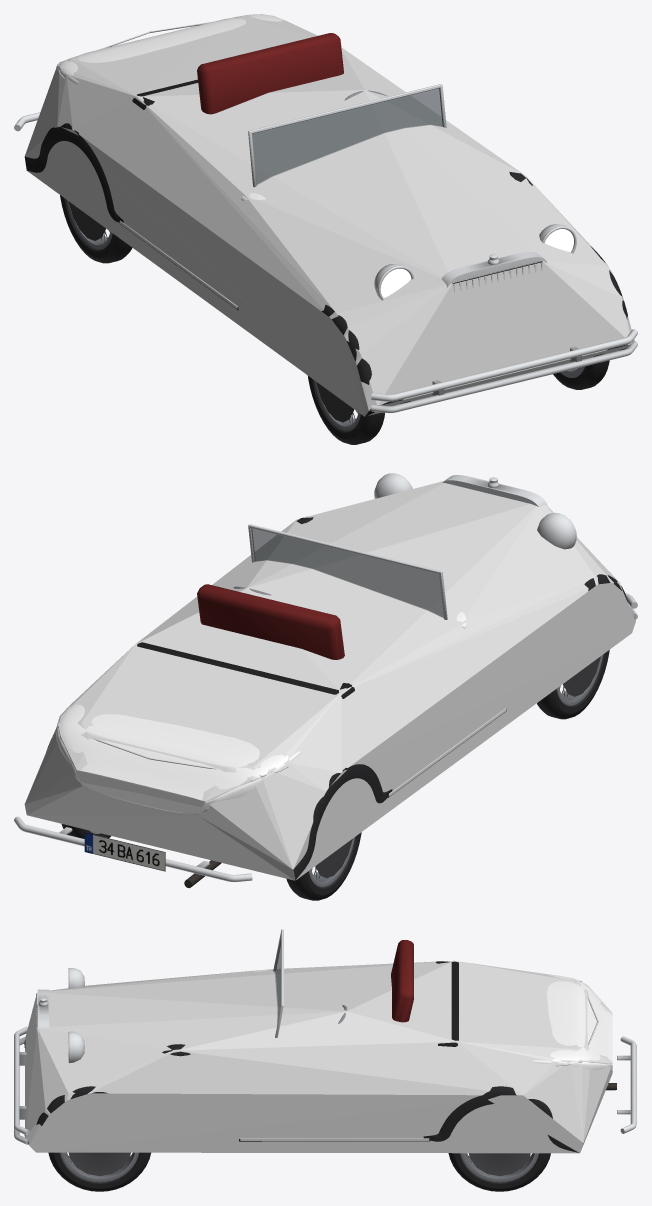
The model's file is bosfor_lale_lod0.glb.
The picture shows the model from 3 angles, top to bottom: view 1: azimuth 30°, elevation 25°; view 2: azimuth 150°, elevation 25°; view 3: azimuth 270°, elevation 25°; orthographic projection. The views are drawn at different scales.
Visible parts, largest first — view 1: col_body, exhaust, glass, interior, trim, body, wheel_FR, wheel_RR, lights_front, wheel_FL, brake_FR, brake_RR; view 2: col_body, body, exhaust, interior, glass, trim, plate_rear, wheel_RR, wheel_FR, brake_FR, brake_RR; view 3: col_body, body, exhaust, trim, wheel_FL, wheel_RL, interior, brake_FL, brake_RL.
Boxes of the visible parts, box(x1,y1,x2,y2) form: col_body: box(24, 14, 634, 416); exhaust: box(14, 14, 637, 413); glass: box(252, 88, 443, 184); interior: box(197, 33, 343, 114); trim: box(24, 79, 627, 416); body: box(56, 14, 286, 200); wheel_FR: box(307, 375, 384, 444); wheel_RR: box(60, 195, 132, 263); lights_front: box(380, 229, 573, 297); wheel_FL: box(553, 360, 609, 389); brake_FR: box(316, 382, 353, 422); brake_RR: box(68, 201, 105, 240); col_body: box(24, 481, 635, 880); body: box(56, 611, 466, 813); exhaust: box(14, 473, 637, 888); interior: box(197, 584, 344, 659); glass: box(251, 528, 443, 617); trim: box(46, 516, 634, 880); plate_rear: box(84, 832, 165, 871); wheel_RR: box(286, 832, 361, 900); wheel_FR: box(537, 650, 609, 719); brake_FR: box(563, 656, 600, 696); brake_RR: box(315, 839, 352, 878); col_body: box(25, 960, 612, 1153); body: box(252, 969, 612, 1071); exhaust: box(14, 929, 636, 1144); trim: box(24, 961, 578, 1152); wheel_FL: box(48, 1152, 150, 1191); wheel_RL: box(448, 1153, 550, 1191); interior: box(391, 940, 413, 1022); brake_FL: box(68, 1152, 130, 1176); brake_RL: box(469, 1153, 530, 1176).
Size of the model in its own units: 1.73 by 1.37 by 4.29.
11 materials, 1 textured.
